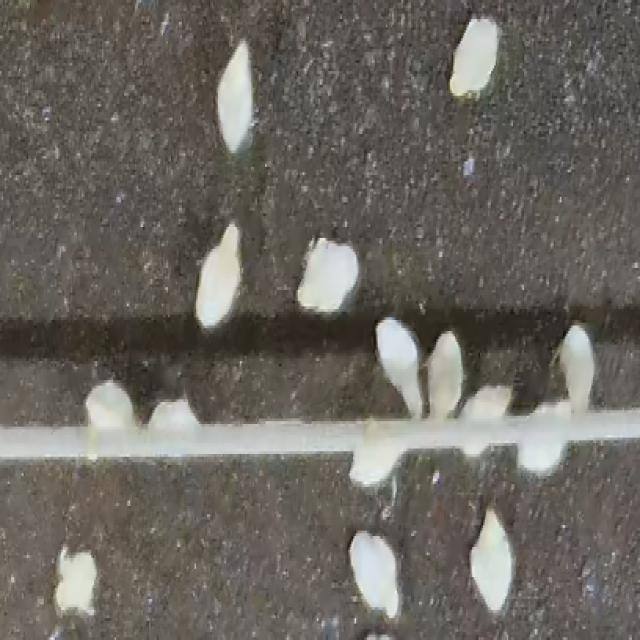broiler: (469, 506, 513, 613), (375, 317, 422, 416), (195, 222, 240, 325), (296, 238, 358, 312), (216, 38, 254, 150), (348, 531, 398, 615), (449, 16, 499, 96), (555, 323, 595, 413), (427, 331, 463, 416), (53, 547, 96, 613), (516, 429, 568, 473), (85, 380, 133, 427), (350, 446, 405, 484), (460, 386, 511, 418), (147, 399, 199, 429), (530, 399, 571, 416), (463, 443, 484, 454)
pipe: (0, 408, 638, 459)
